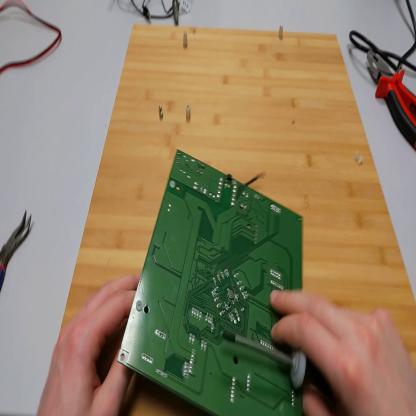hand: (269, 289, 415, 416), (39, 276, 143, 416)
oscilloscope probe tip: (118, 151, 308, 415), (173, 1, 179, 23)
pliers: (366, 49, 416, 150), (2, 209, 33, 292)
screwdriver-: (220, 326, 340, 410)
working area: (62, 25, 416, 414)
